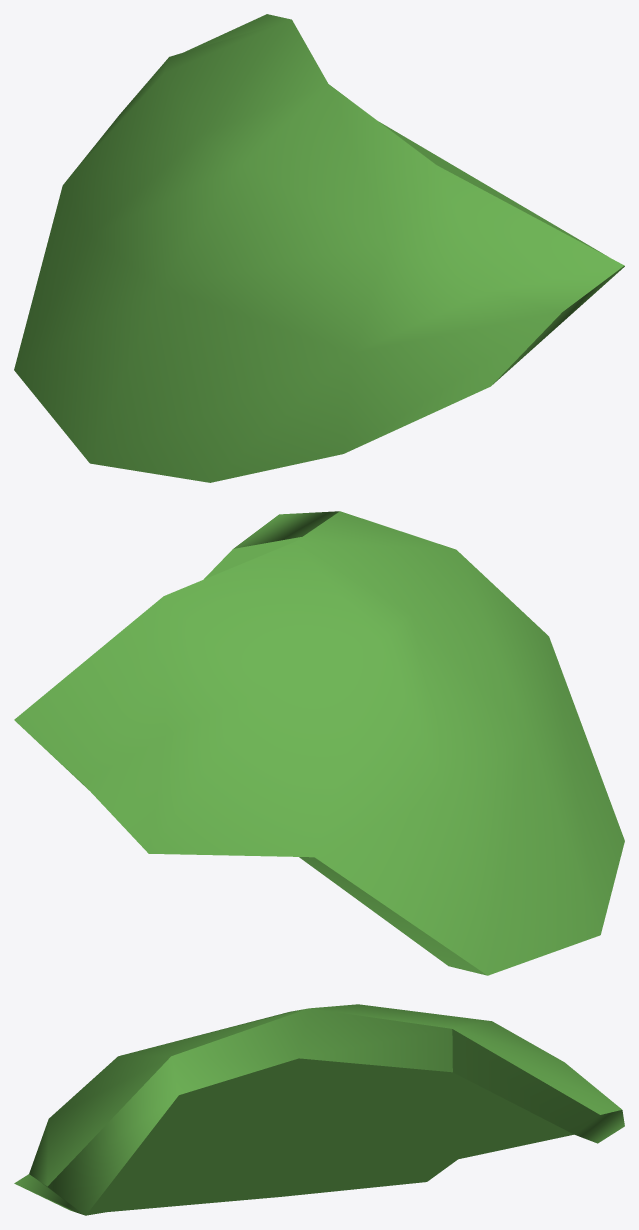
File: Eurasia.fbx
3 views of the same model, one above another, from view 1: azimuth 30°, elevation 25°; view 2: azimuth 150°, elevation 25°; view 3: azimuth 270°, elevation 25° (orthographic). The views are drawn at different scales.
Parts seen in each view (by area): view 1: pCube11; view 2: pCube11; view 3: pCube11.
Boxes of the visible parts, x1,y1,x2,y2 form: pCube11: (14, 14, 624, 482); pCube11: (14, 511, 624, 975); pCube11: (14, 1004, 624, 1215).
Size of the model in its own units: 21.61 by 14.51 by 28.49.
